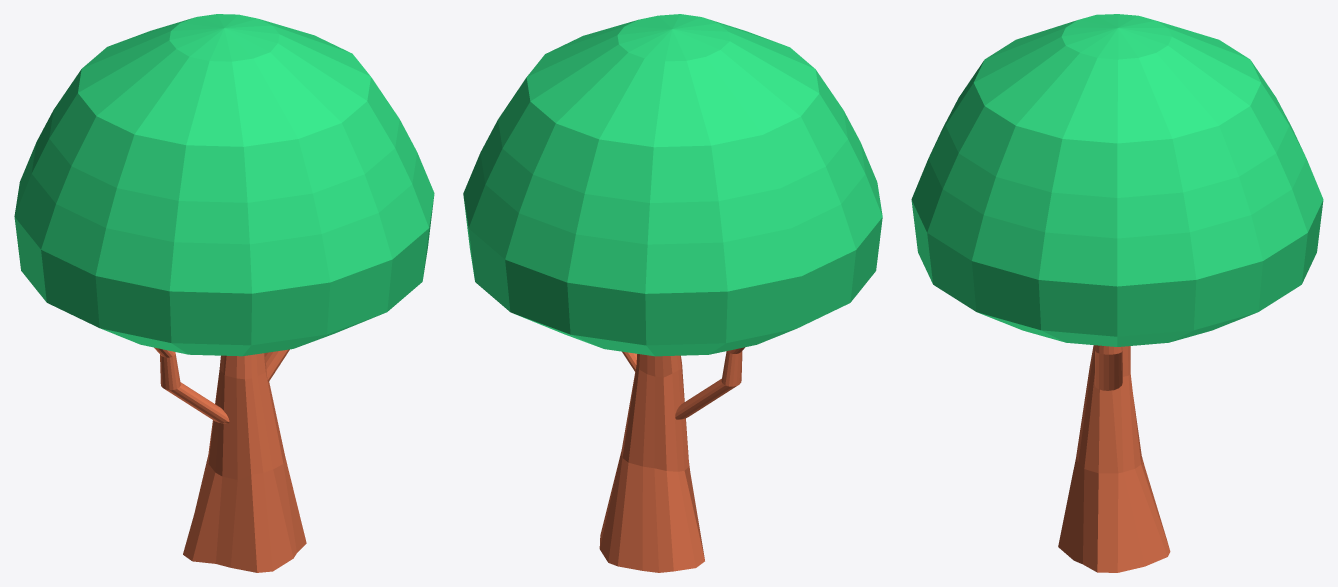
File: pohon21m2.fbx
3 renders of one model, left to right at view 1: azimuth 30°, elevation 25°; view 2: azimuth 150°, elevation 25°; view 3: azimuth 270°, elevation 25°, orthographic. The views are drawn at different scales.
Parts seen in each view (by area): view 1: Sphere.001, Circle, Circle.001; view 2: Sphere.001, Circle, Circle.001; view 3: Sphere.001, Circle, Circle.002.
Part boxes in pixels (<box>): Sphere.001: <box>14,14,434,356</box>; Circle: <box>183,353,306,572</box>; Circle.001: <box>154,347,229,423</box>; Sphere.001: <box>463,14,882,356</box>; Circle: <box>599,354,704,572</box>; Circle.001: <box>675,347,744,419</box>; Sphere.001: <box>911,14,1323,346</box>; Circle: <box>1058,345,1170,572</box>; Circle.002: <box>1094,345,1122,390</box>.
Bounding box in the file's own units: 22.08 × 30.2 × 22.08.
